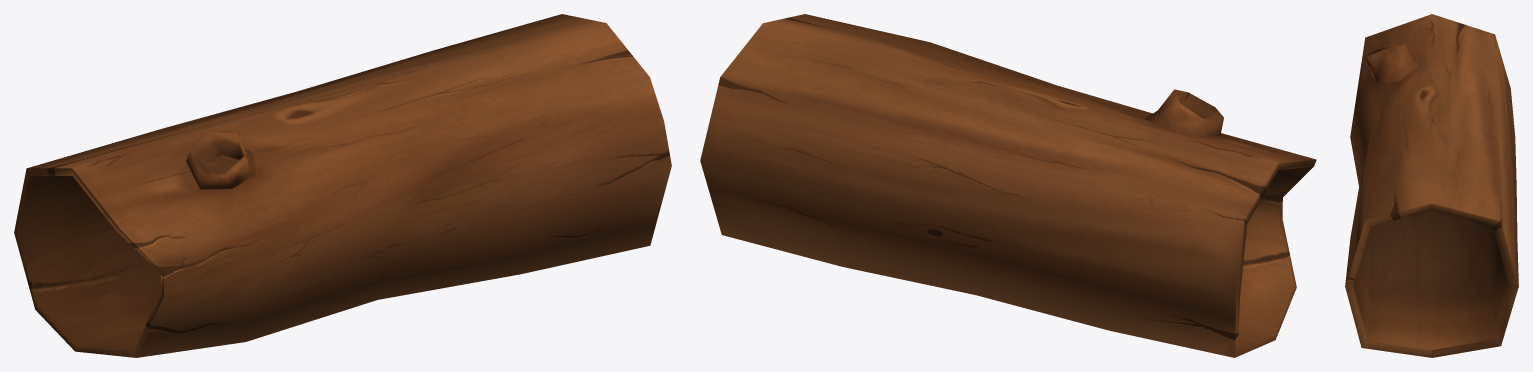
The model's file is Log.FBX.
3 renders of one model, left to right at view 1: azimuth 30°, elevation 25°; view 2: azimuth 150°, elevation 25°; view 3: azimuth 270°, elevation 25°, orthographic. The views are drawn at different scales.
Parts seen in each view (by area): view 1: Box001; view 2: Box001; view 3: Box001.
Part boxes in pixels (left/top/right/bottom): Box001: left=14, top=14, right=671, bottom=357; Box001: left=700, top=14, right=1316, bottom=357; Box001: left=1345, top=14, right=1518, bottom=357.
Size of the model in its own units: 30 by 10.76 by 10.65.
